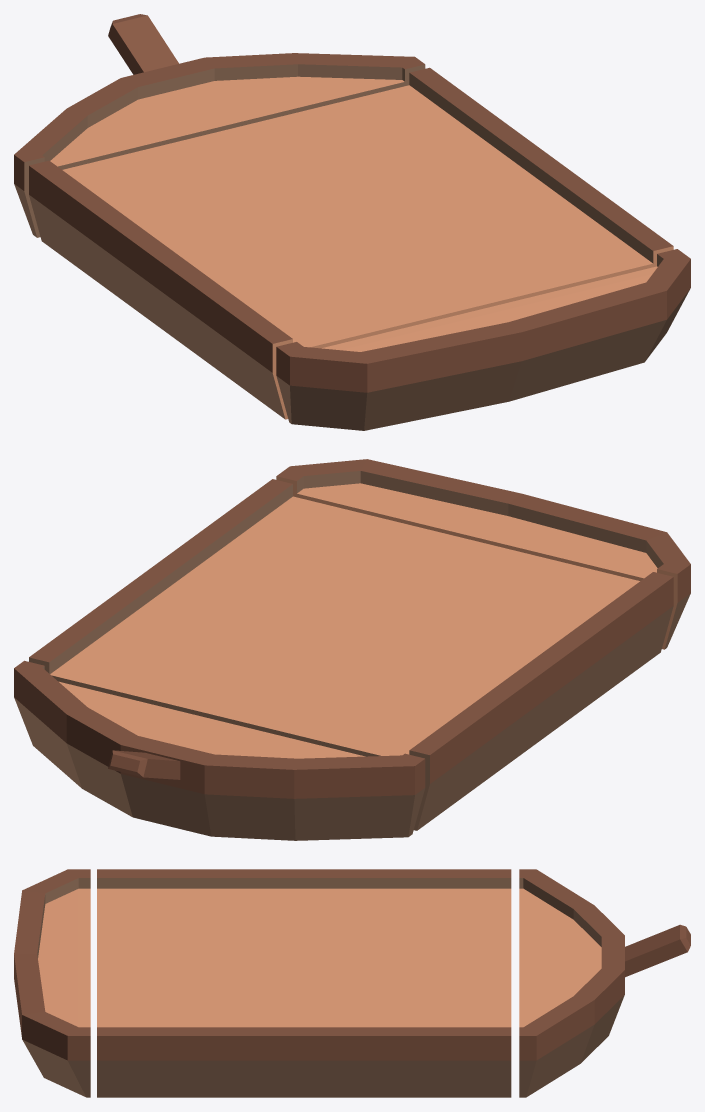
File: boat cut.fbx
The picture shows the model from 3 angles, top to bottom: view 1: azimuth 30°, elevation 25°; view 2: azimuth 150°, elevation 25°; view 3: azimuth 270°, elevation 25°; orthographic projection. The views are drawn at different scales.
Visible parts, largest first — view 1: Cube.001, Cube.004, Cube.002; view 2: Cube.001, Cube.002, Cube.004; view 3: Cube.001, Cube.002, Cube.004.
Part boxes in pixels (<box>): Cube.001: <box>29,67,673,419</box>; Cube.004: <box>276,249,690,430</box>; Cube.002: <box>14,14,425,237</box>; Cube.001: <box>29,479,673,830</box>; Cube.002: <box>14,660,425,840</box>; Cube.004: <box>276,459,690,649</box>; Cube.001: <box>97,869,511,1097</box>; Cube.002: <box>519,869,690,1097</box>; Cube.004: <box>14,869,90,1097</box>.
Size of the model in its own units: 1337 by 333 by 2299.
